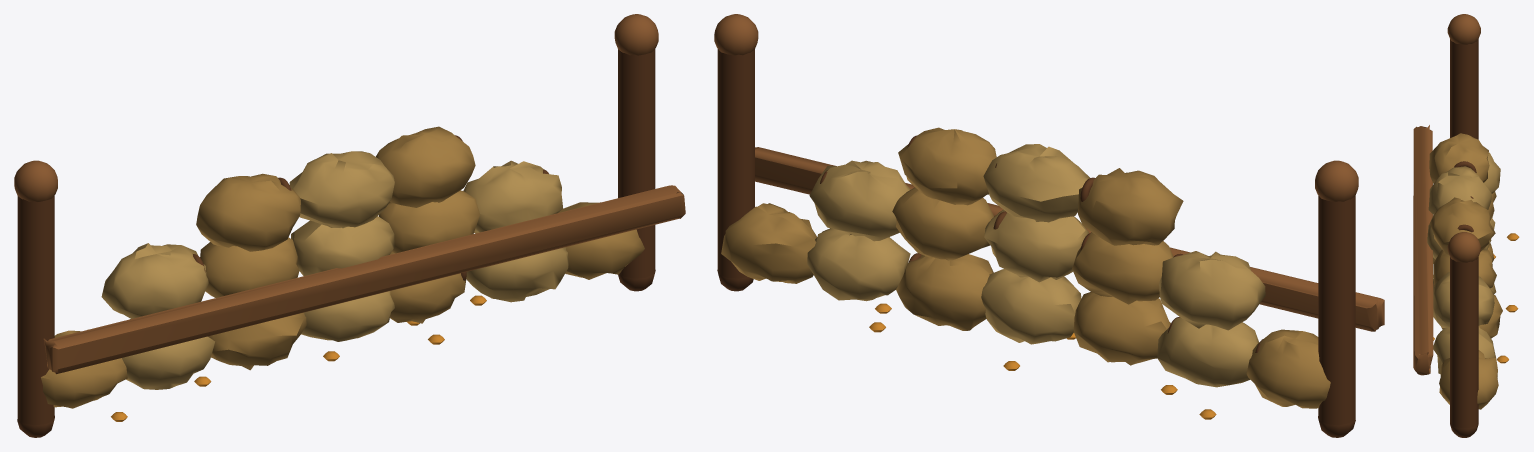
Rendered from d_barricade.fbx.
3 views of the same model, side by side, from view 1: azimuth 30°, elevation 25°; view 2: azimuth 150°, elevation 25°; view 3: azimuth 270°, elevation 25° (orthographic). The views are drawn at different scales.
Visible parts, largest first — view 1: d_barricade; view 2: d_barricade; view 3: d_barricade.
Part boxes in pixels (x1=…): d_barricade: x1=14, y1=14, x2=685, y2=437; d_barricade: x1=714, y1=14, x2=1384, y2=437; d_barricade: x1=1413, y1=14, x2=1519, y2=437.
Bounding box in the file's own units: 4.25 × 1.74 × 0.8225.
